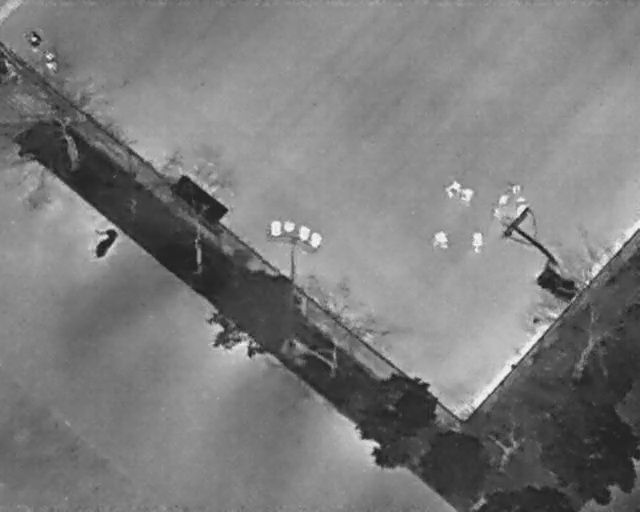Bicycle: (83, 220, 123, 263), (430, 231, 451, 251), (445, 178, 461, 199), (43, 50, 58, 71), (472, 231, 483, 257), (460, 185, 473, 205), (28, 31, 41, 51), (497, 193, 510, 210), (517, 198, 528, 217), (512, 182, 522, 197)
